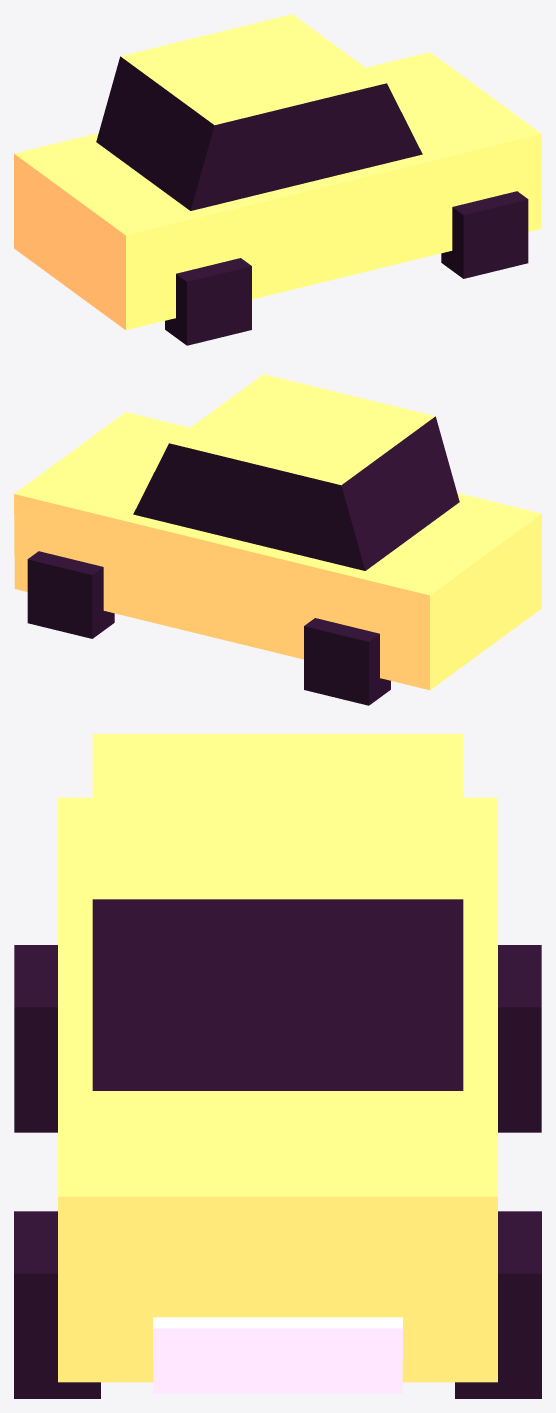
File: Car_NoSpion_Plakat.fbx
3 views of the same model, one above another, from view 1: azimuth 30°, elevation 25°; view 2: azimuth 150°, elevation 25°; view 3: azimuth 270°, elevation 25° (orthographic). The views are drawn at different scales.
Visible parts, largest first — view 1: Car_NoSpion_Plat; view 2: Car_NoSpion_Plat; view 3: Car_NoSpion_Plat.
Boxes of the visible parts, box(x1,y1,x2,y2) form: Car_NoSpion_Plat: box(14, 14, 541, 345); Car_NoSpion_Plat: box(14, 374, 541, 705); Car_NoSpion_Plat: box(14, 734, 541, 1398).
Bounding box in the file's own units: 240 × 441 × 192.
